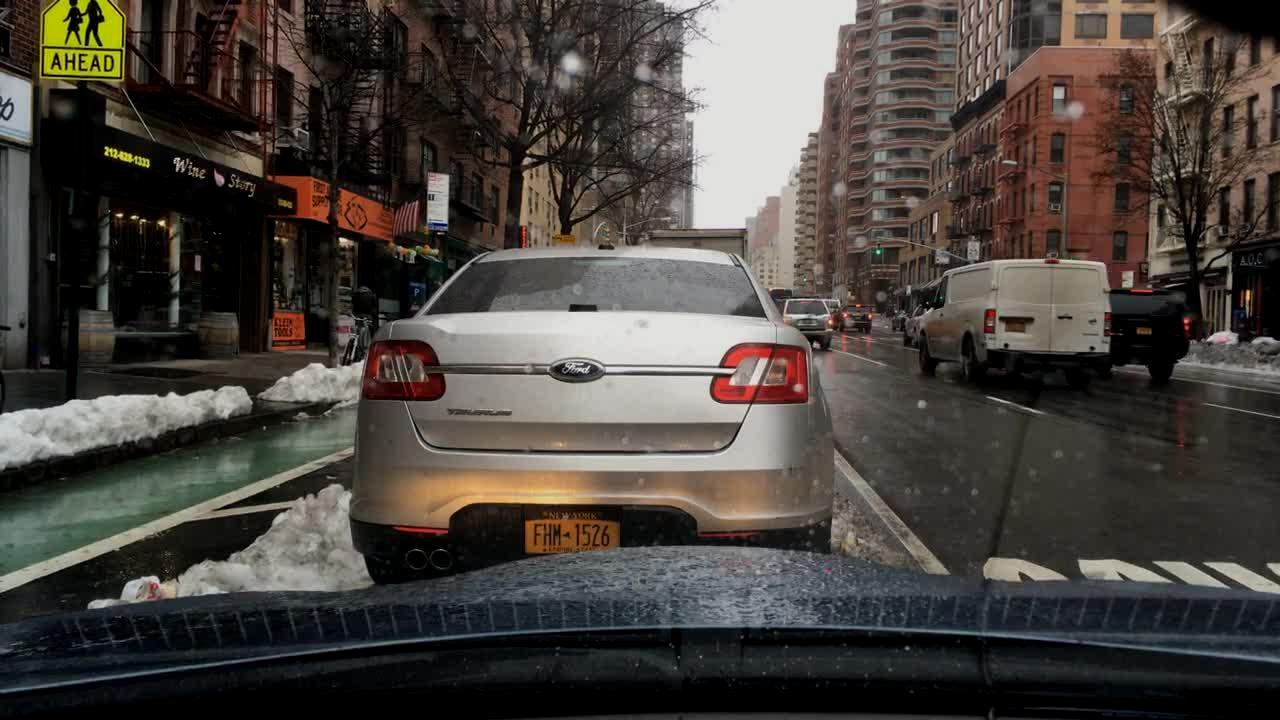ford: (554, 352, 604, 380)
